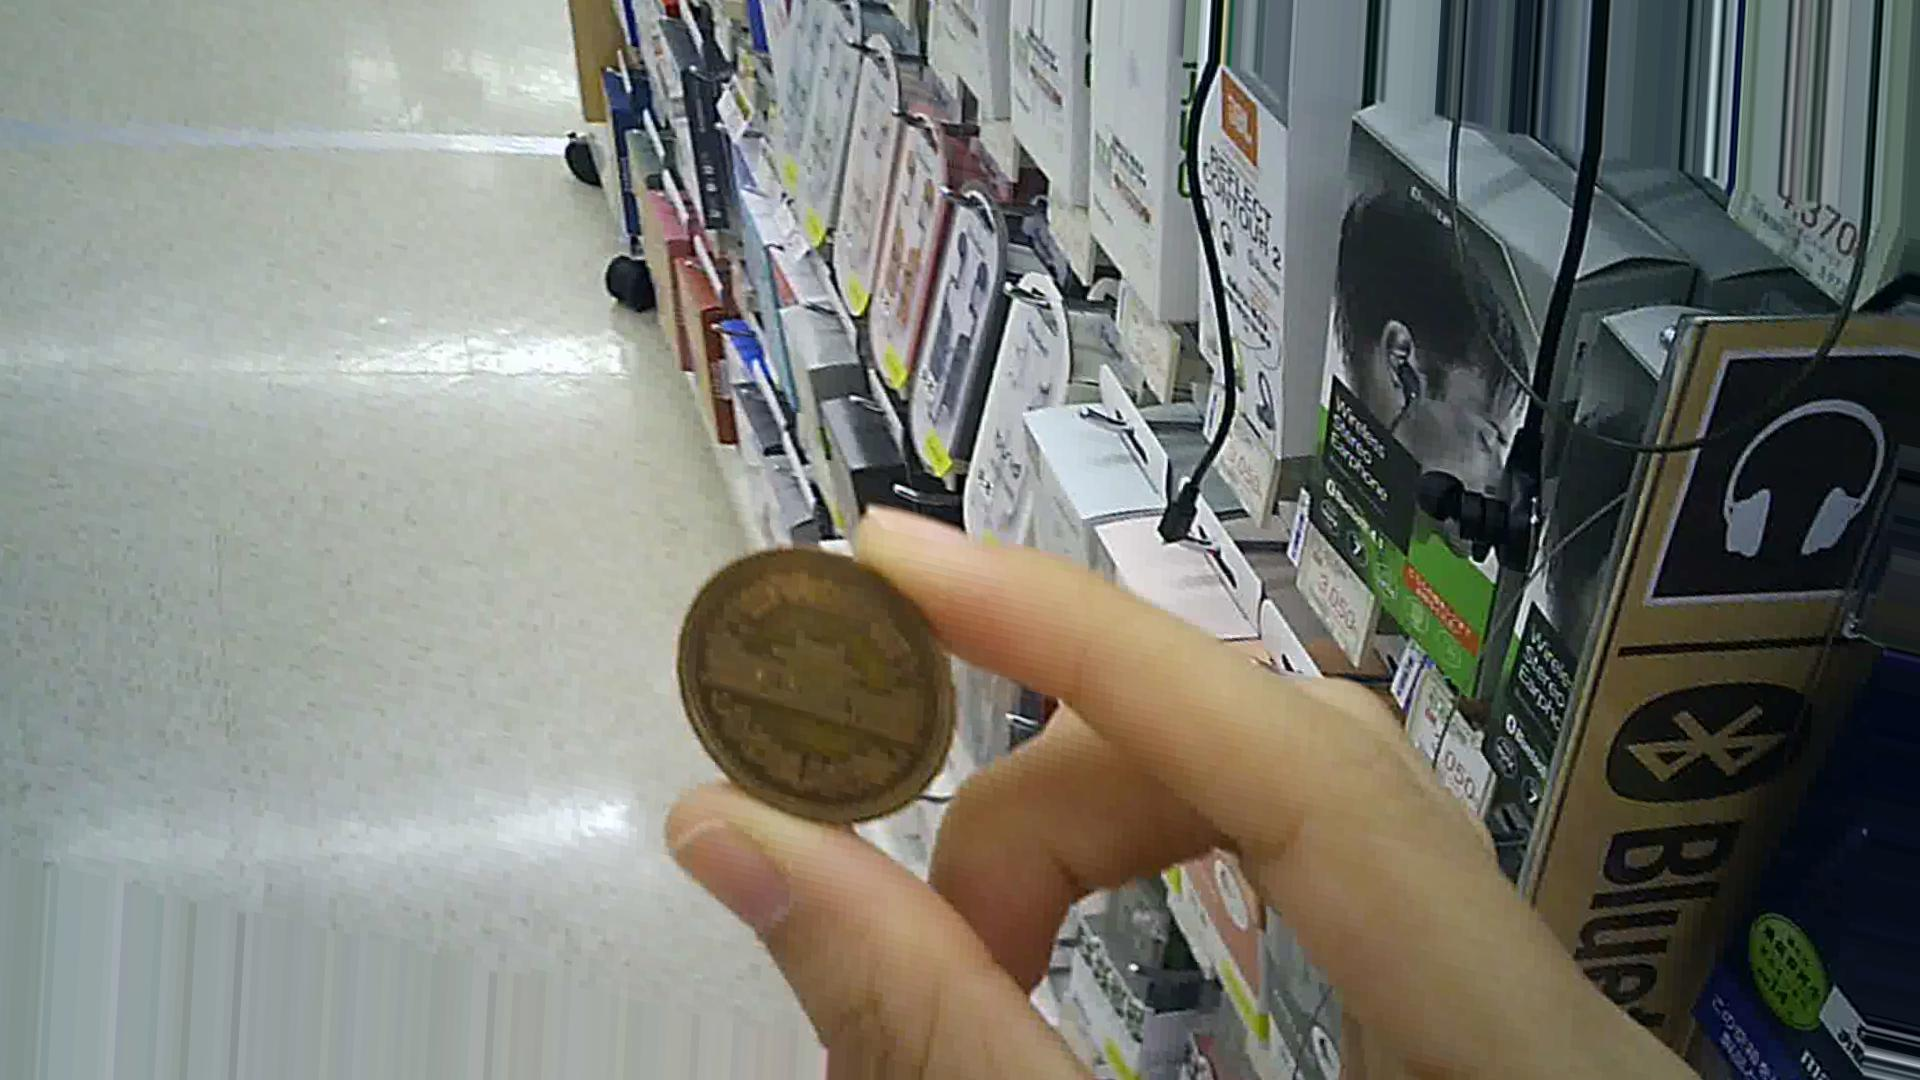10 Yen: (646, 517, 968, 865)
